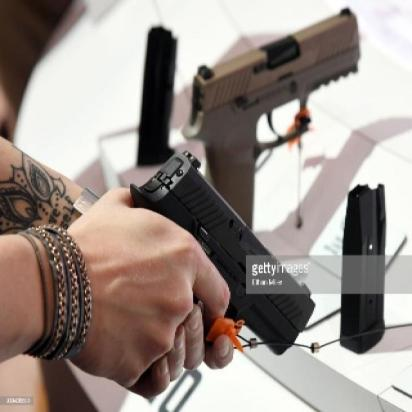Gun: (121, 147, 314, 358), (186, 4, 360, 226)
